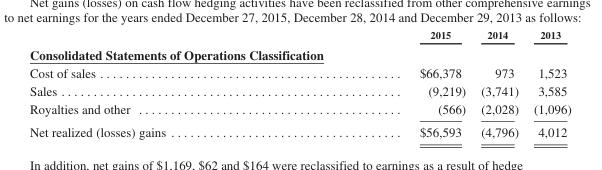table: (28, 28, 570, 139)
table column: (28, 28, 292, 139), (292, 28, 472, 139), (472, 28, 525, 139), (525, 28, 570, 139)
table column header: (28, 28, 570, 43)
table projected row header: (28, 43, 570, 63)
table row: (28, 99, 570, 120), (28, 43, 570, 63), (28, 120, 570, 139), (28, 63, 570, 81), (28, 81, 570, 99), (28, 28, 570, 43)
